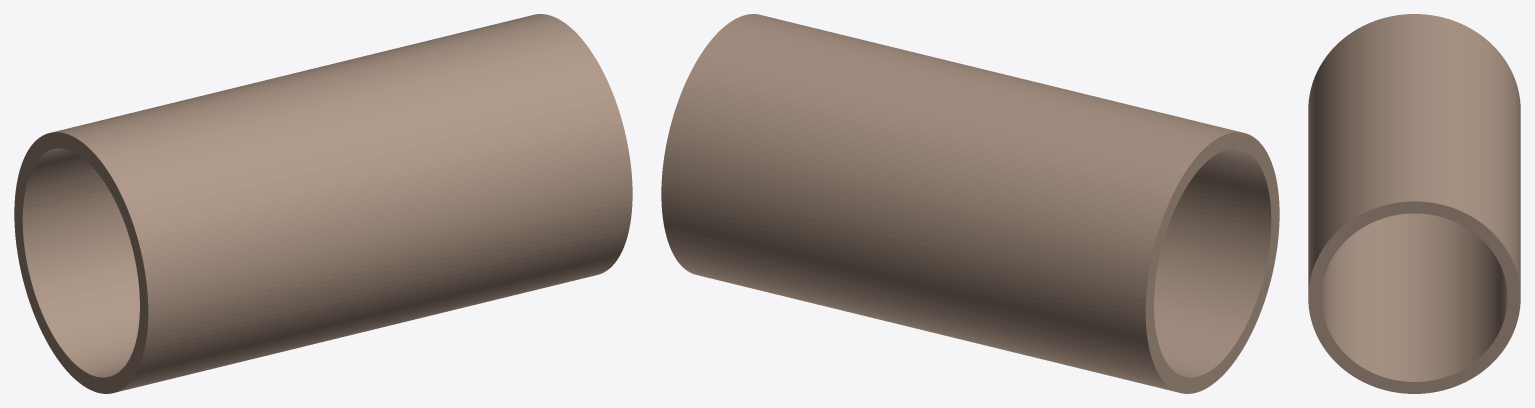
3 views of the same model, side by side, from view 1: azimuth 30°, elevation 25°; view 2: azimuth 150°, elevation 25°; view 3: azimuth 270°, elevation 25° (orthographic). The views are drawn at different scales.
Visible parts, largest first — view 1: Node1; view 2: Node1; view 3: Node1.
Part boxes in pixels (left/top/right/bottom): Node1: left=14, top=14, right=632, bottom=393; Node1: left=661, top=14, right=1279, bottom=393; Node1: left=1308, top=14, right=1520, bottom=393.
Size of the model in its own units: 167 by 79.98 by 80.
